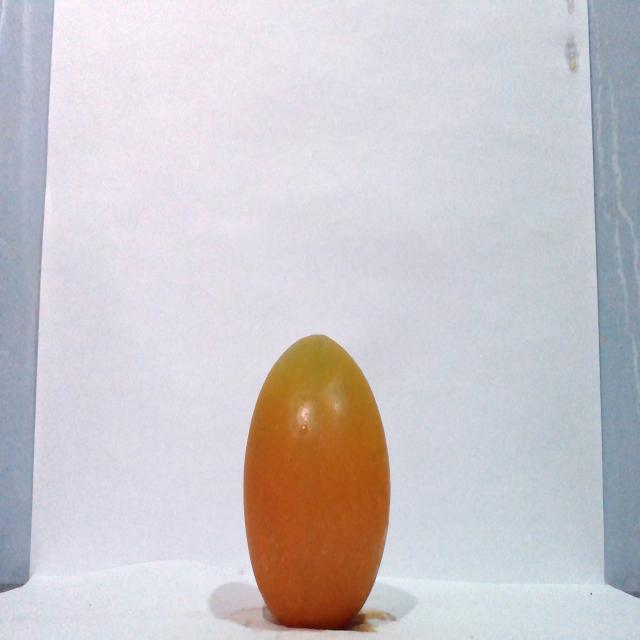Red: (241, 332, 392, 629)
